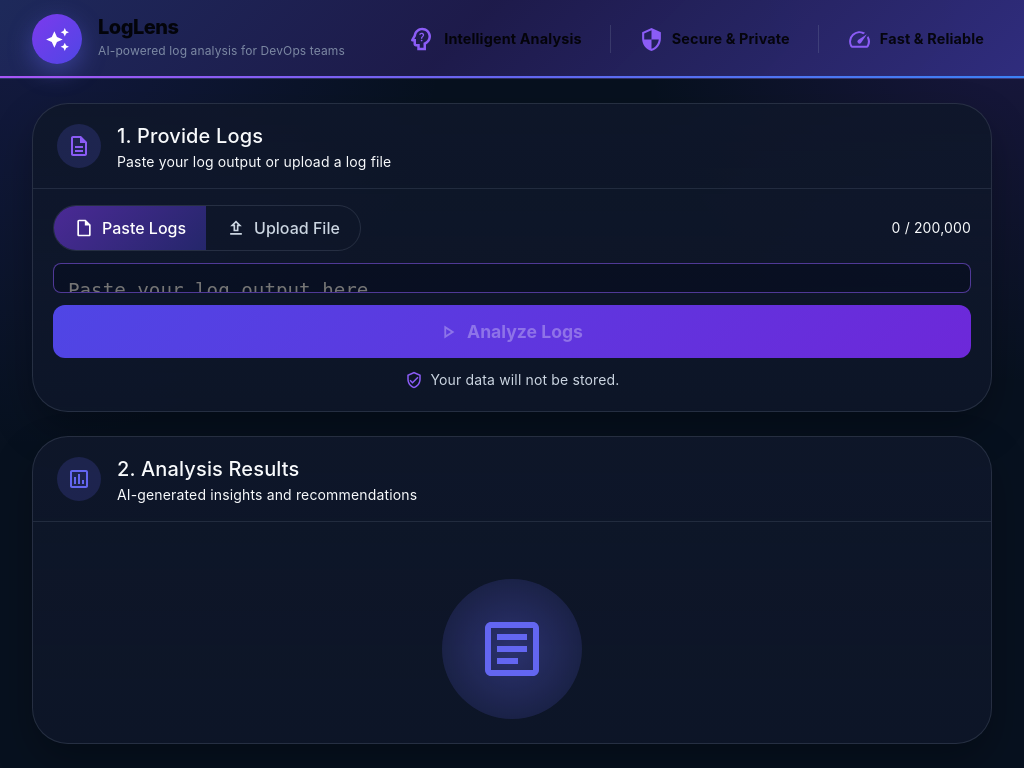
App › switching to Upload File tab hides the character counter
Step 1. Click the tab "Upload File" → click(283, 228), box 206,206 -> 360,250
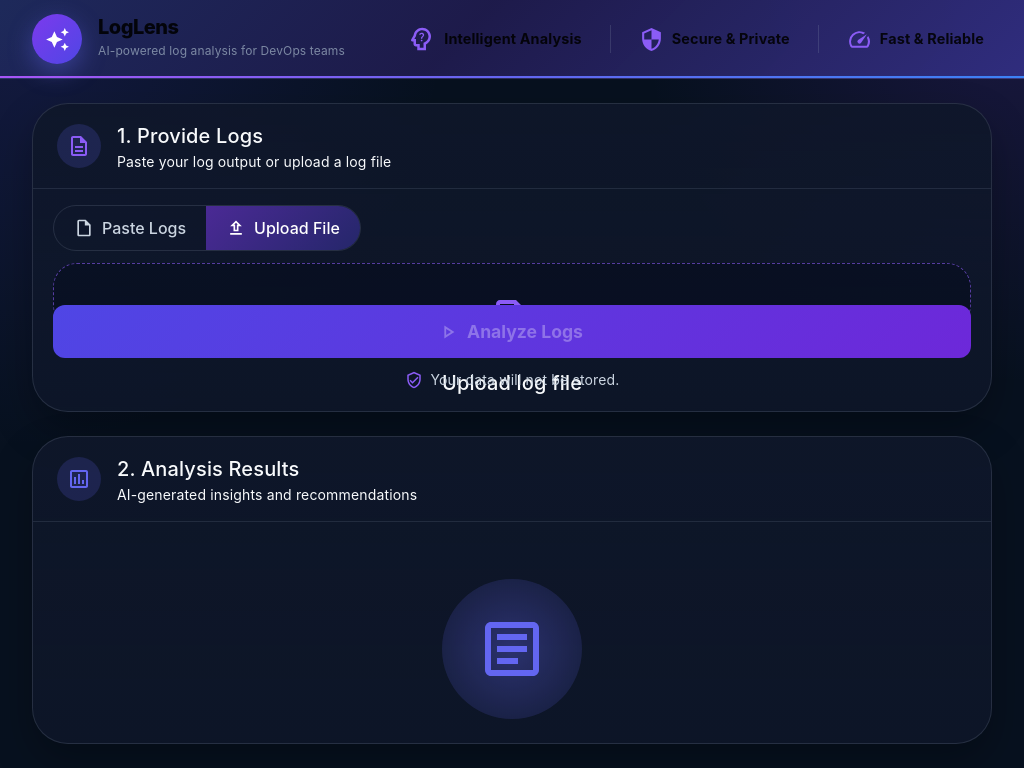
Result: the text "/ 200,000" is gone
